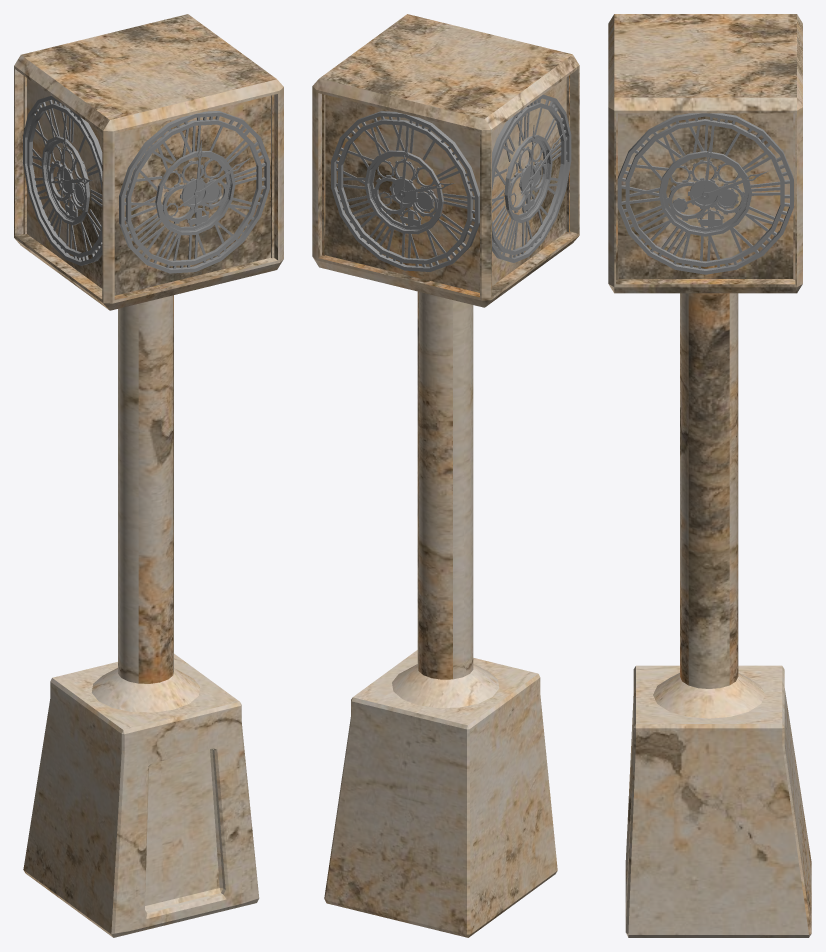
The model's file is Horloge.FBX.
3 views of the same model, side by side, from view 1: azimuth 30°, elevation 25°; view 2: azimuth 150°, elevation 25°; view 3: azimuth 270°, elevation 25° (orthographic). The views are drawn at different scales.
Visible parts, largest first — view 1: Box035; view 2: Box035; view 3: Box035.
Part boxes in pixels (x1,y1,x2,y2): Box035: [14, 14, 283, 937]; Box035: [312, 14, 579, 937]; Box035: [608, 14, 811, 937].
Bounding box in the file's own units: 36.86 × 35.01 × 161.
Materials: 2 (1 with a texture image).
